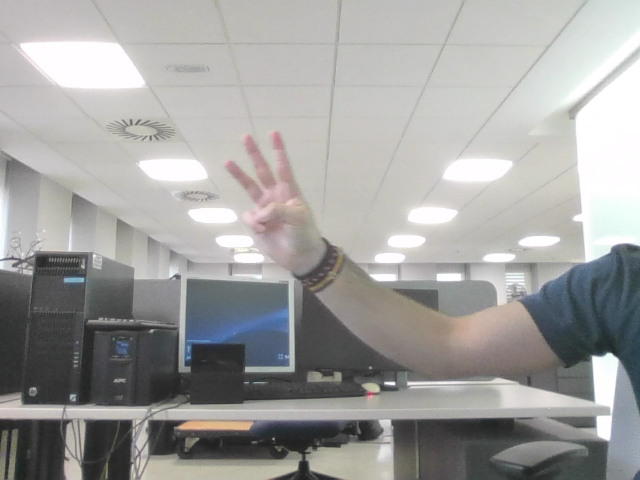3Dedos: (233, 140, 300, 232)
